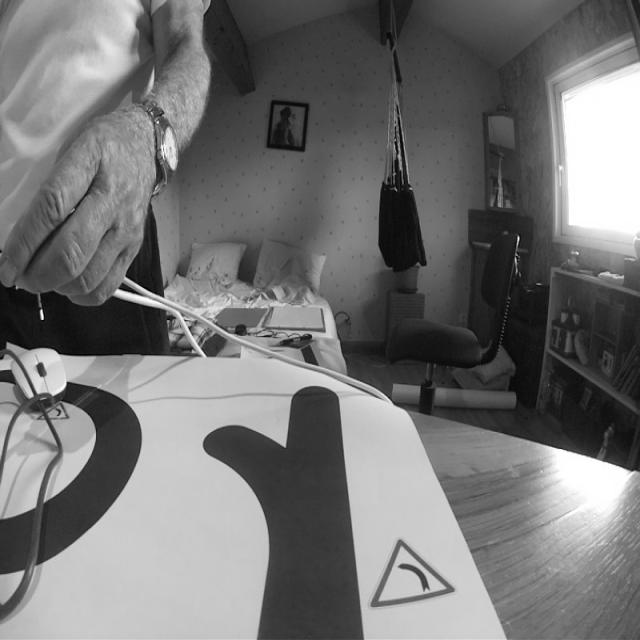laneLeftTurn: (208, 434, 368, 640)
